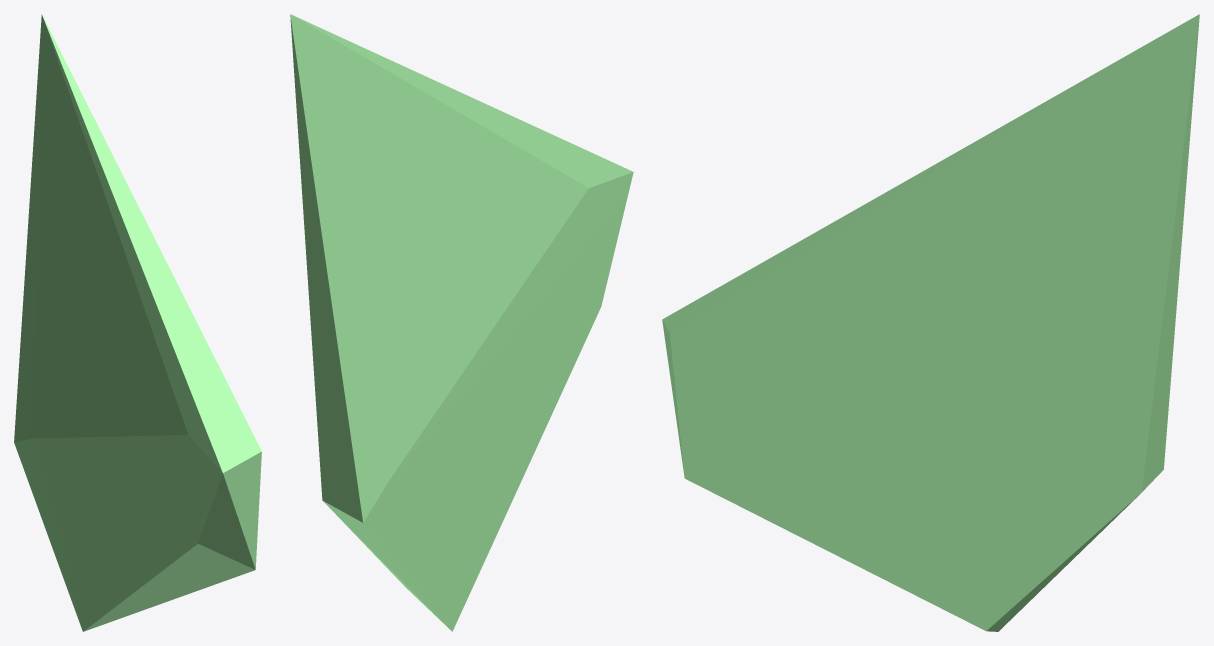
File: linkhou_LR4_R560_link7_respondable_coll_37.dae
The picture shows the model from 3 angles, left to right: view 1: azimuth 30°, elevation 25°; view 2: azimuth 150°, elevation 25°; view 3: azimuth 270°, elevation 25°; orthographic projection. The views are drawn at different scales.
Visible parts, largest first — view 1: Node_0000029808432F10; view 2: Node_0000029808432F10; view 3: Node_0000029808432F10.
Part boxes in pixels (x1,y1,x2,y2): Node_0000029808432F10: [14, 14, 261, 631]; Node_0000029808432F10: [290, 14, 633, 631]; Node_0000029808432F10: [662, 14, 1199, 631].
Bounding box in the file's own units: 0.0033 × 0.037 × 0.0281.
